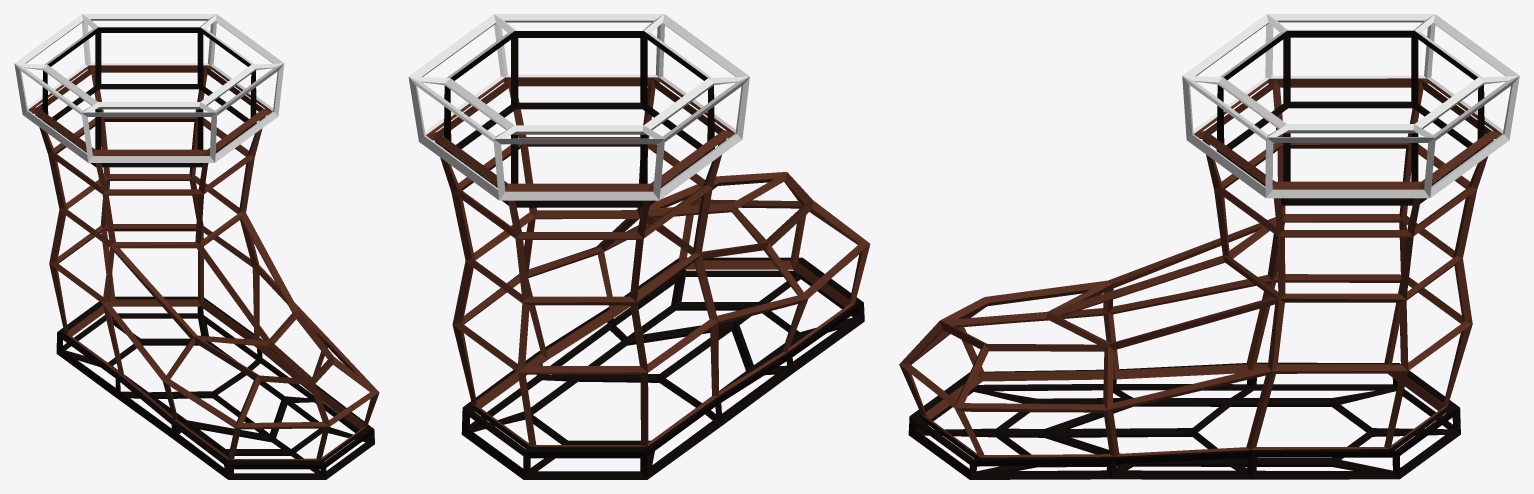
Rendered from boot_o.glb.
The picture shows the model from 3 angles, left to right: view 1: azimuth 30°, elevation 25°; view 2: azimuth 150°, elevation 25°; view 3: azimuth 270°, elevation 25°; orthographic projection. The views are drawn at different scales.
Visible parts, largest first — view 1: Cylinder.001; view 2: Cylinder.001; view 3: Cylinder.001.
Part boxes in pixels (x1,y1,x2,y2): Cylinder.001: (14, 14, 379, 479); Cylinder.001: (408, 14, 870, 479); Cylinder.001: (899, 14, 1519, 479).
Size of the model in its own units: 2.41 by 3.29 by 5.12.
